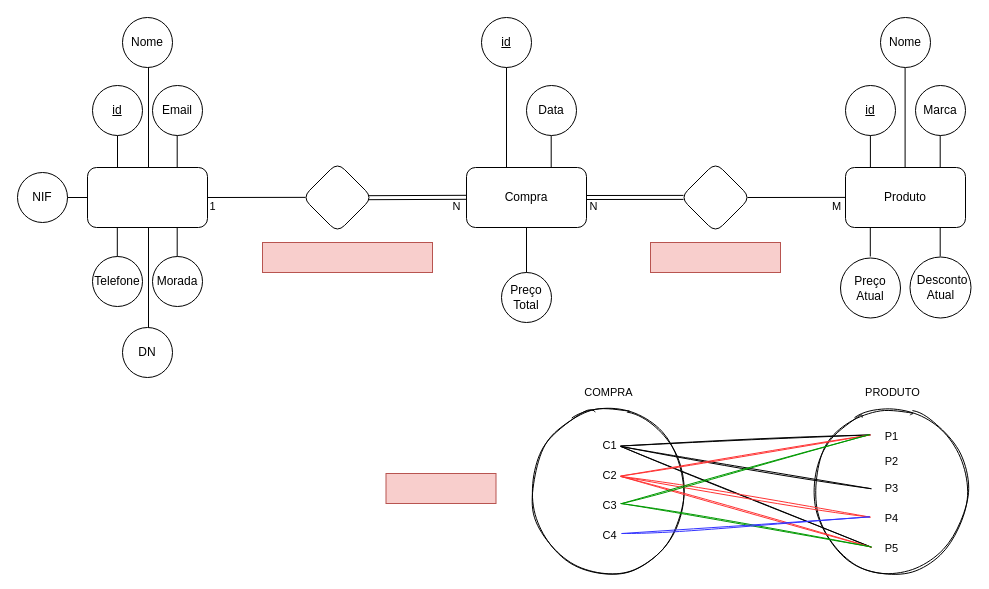
Some shapes in this 989 by 589 pixel diagram are drawn without their labels. The shapes that lost their labels are listed below. From the top down, each one's centre as x and y in pixels, then its label:
the point at 147,197: User
the point at 337,197: Fazer
the point at 715,197: Detalhar
the point at 347,257: //ou Processar, por exemplo
the point at 715,257: //ou Incluir, Englobar
the point at 440,488: //PARA APAGAR
